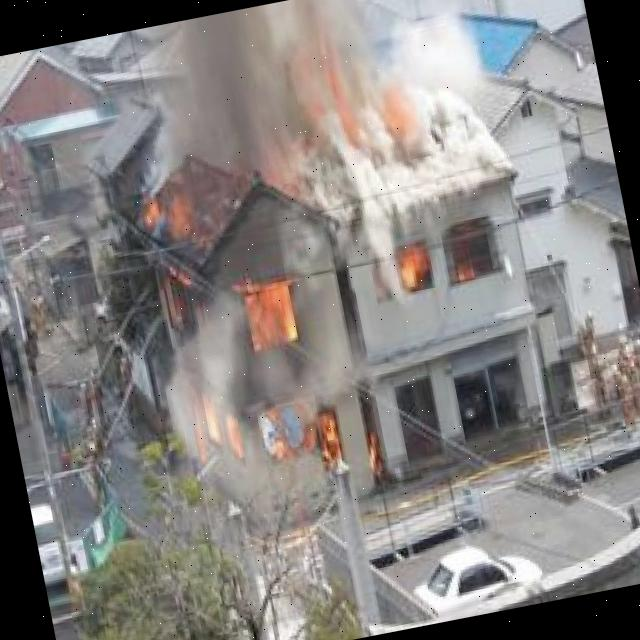fire: (138, 167, 349, 502), (304, 49, 425, 149), (398, 236, 487, 293)
